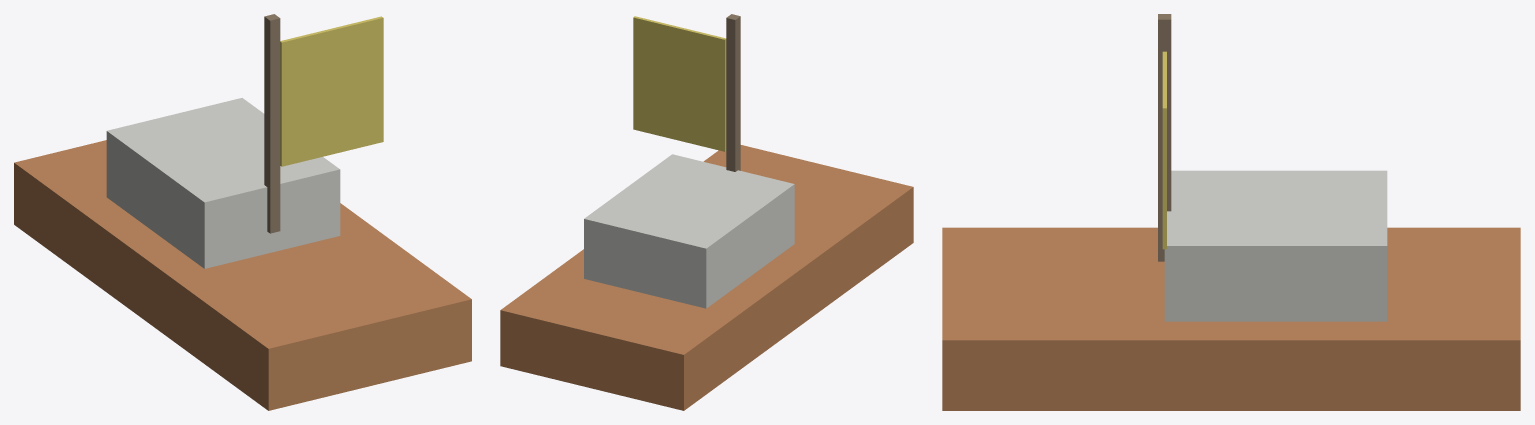
Rendered from boat.glb.
3 views of the same model, side by side, from view 1: azimuth 30°, elevation 25°; view 2: azimuth 150°, elevation 25°; view 3: azimuth 270°, elevation 25° (orthographic). The views are drawn at different scales.
Visible parts, largest first — view 1: boat; view 2: boat; view 3: boat.
Part boxes in pixels (left/top/right/bottom): boat: left=14, top=14, right=471, bottom=410; boat: left=500, top=14, right=913, bottom=410; boat: left=942, top=14, right=1520, bottom=410.
Size of the model in its own units: 1.25 by 1.67 by 2.6.
